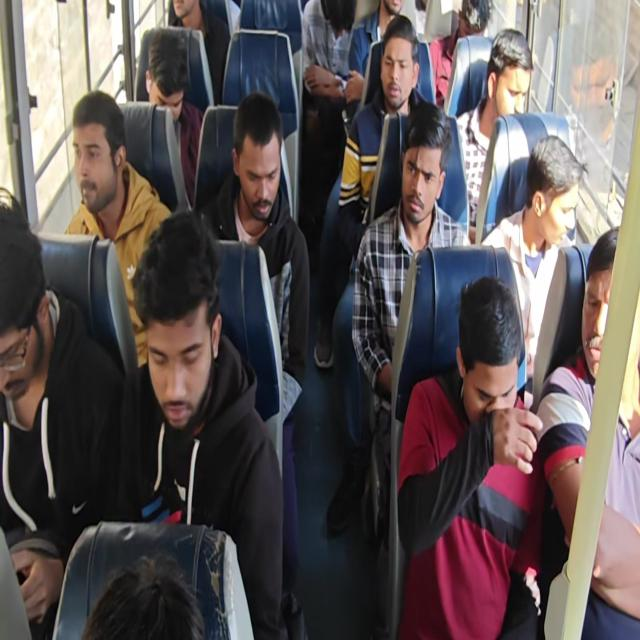person: (140, 254, 226, 441), (75, 550, 227, 640), (0, 212, 55, 390), (568, 253, 636, 390), (460, 302, 521, 428), (396, 118, 452, 236), (64, 111, 122, 211), (229, 112, 283, 218), (525, 154, 581, 248), (472, 43, 539, 118), (133, 33, 186, 119), (443, 0, 494, 64), (377, 35, 418, 112), (354, 0, 411, 22)
